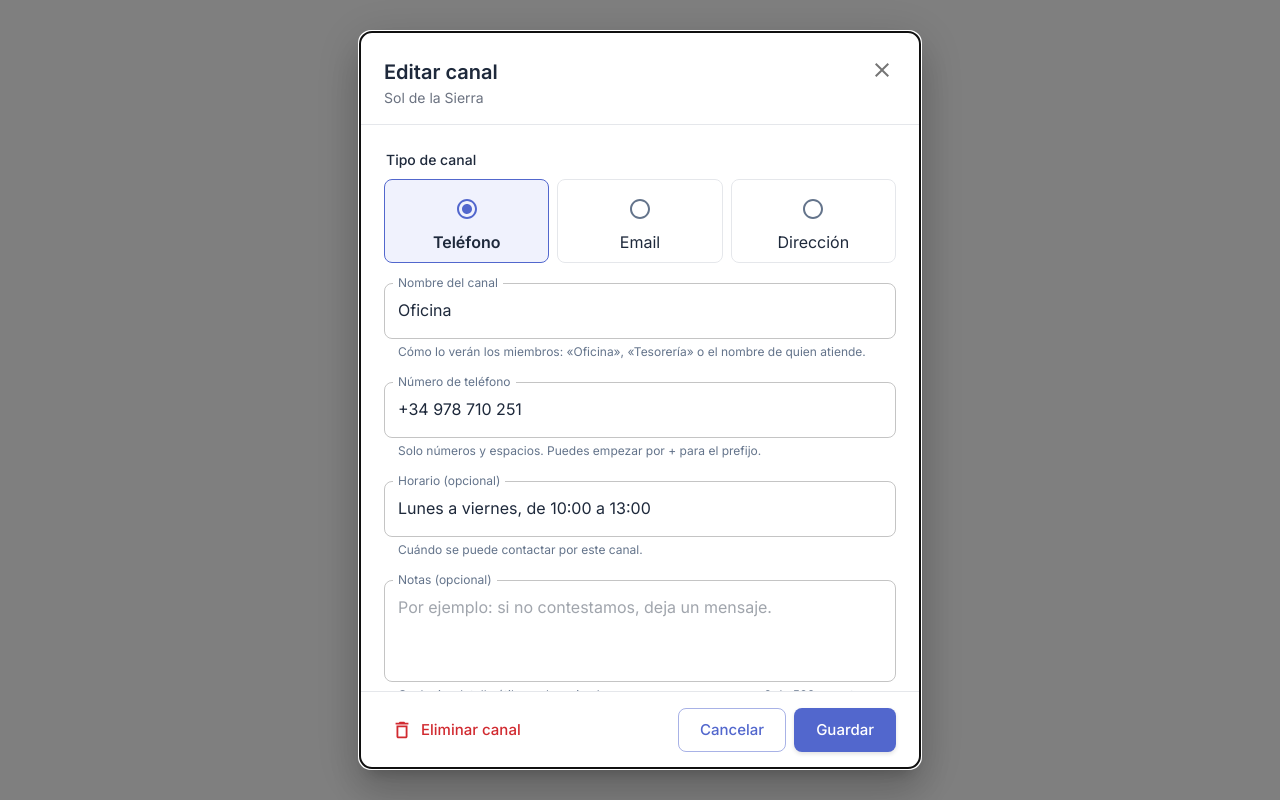
Test: ContactChannelEditor › AC6 adapts the value field to the type, keeping what was typed
Click the radio button labelled "Email": coordinates (640, 221) top-left (557, 179), bottom-right (723, 263)
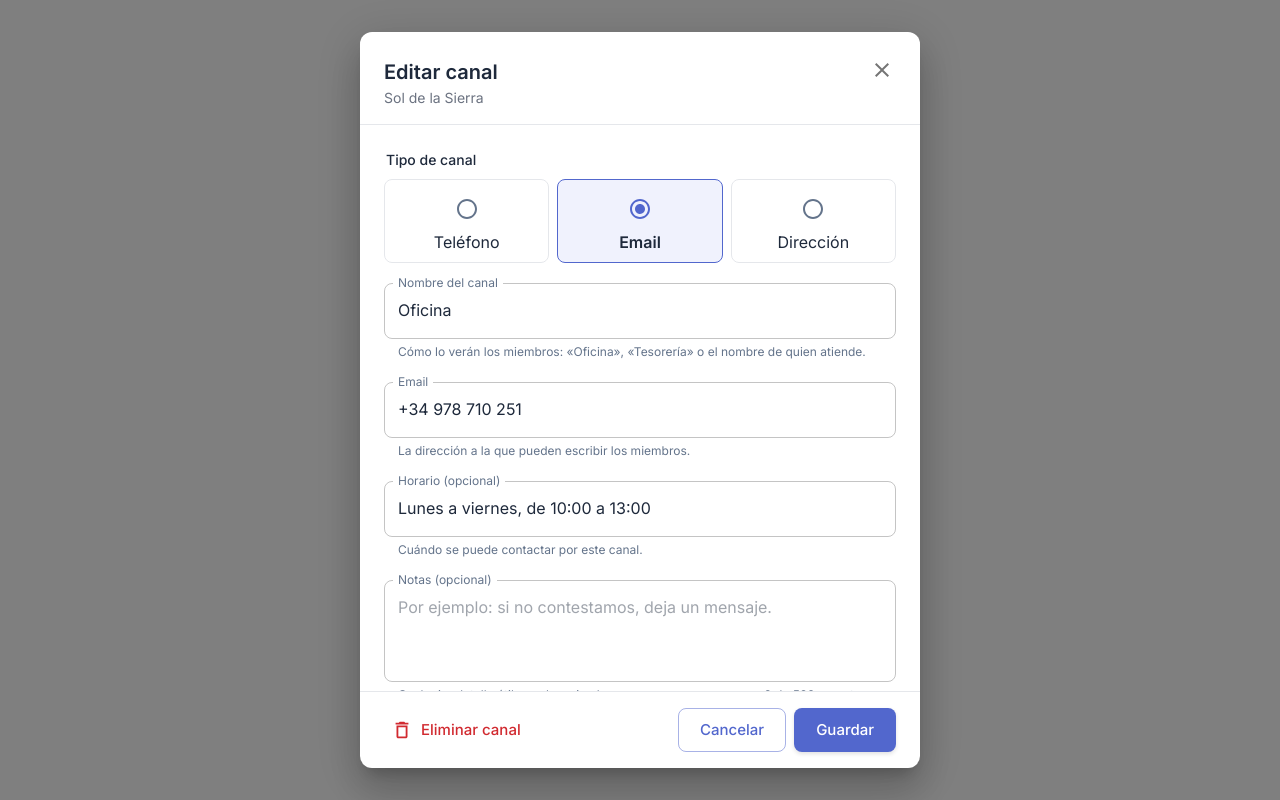
Expected: the field labelled "Email" has attribute type="email", top-left (384, 382), bottom-right (896, 438)
Expected: the field labelled "Email" has attribute inputmode="email", top-left (384, 382), bottom-right (896, 438)
Expected: the field labelled "Email" has attribute autocapitalize="none", top-left (384, 382), bottom-right (896, 438)
Click the radio button labelled "Dirección": coordinates (813, 221) top-left (731, 179), bottom-right (896, 263)
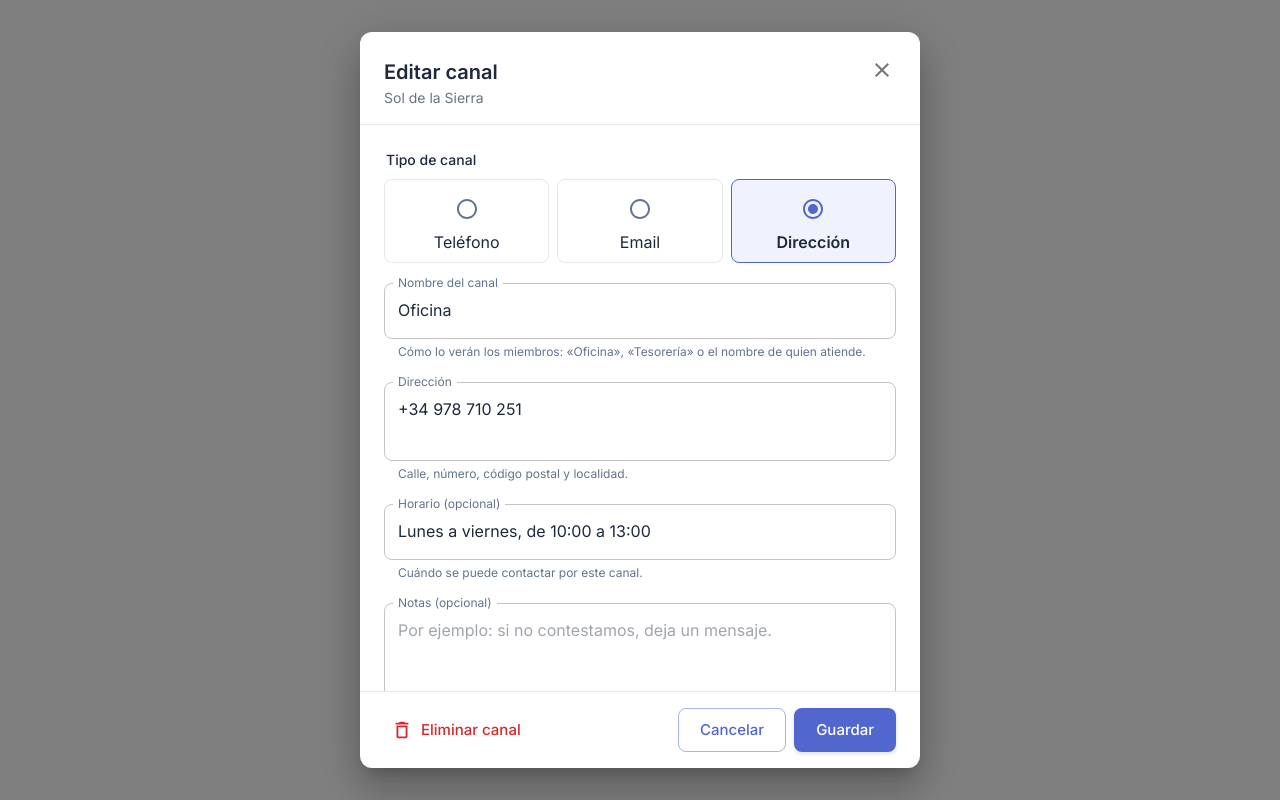
Expected: the text box labelled "Dirección" holds "+34 978 710 251", top-left (398, 398), bottom-right (882, 444)
